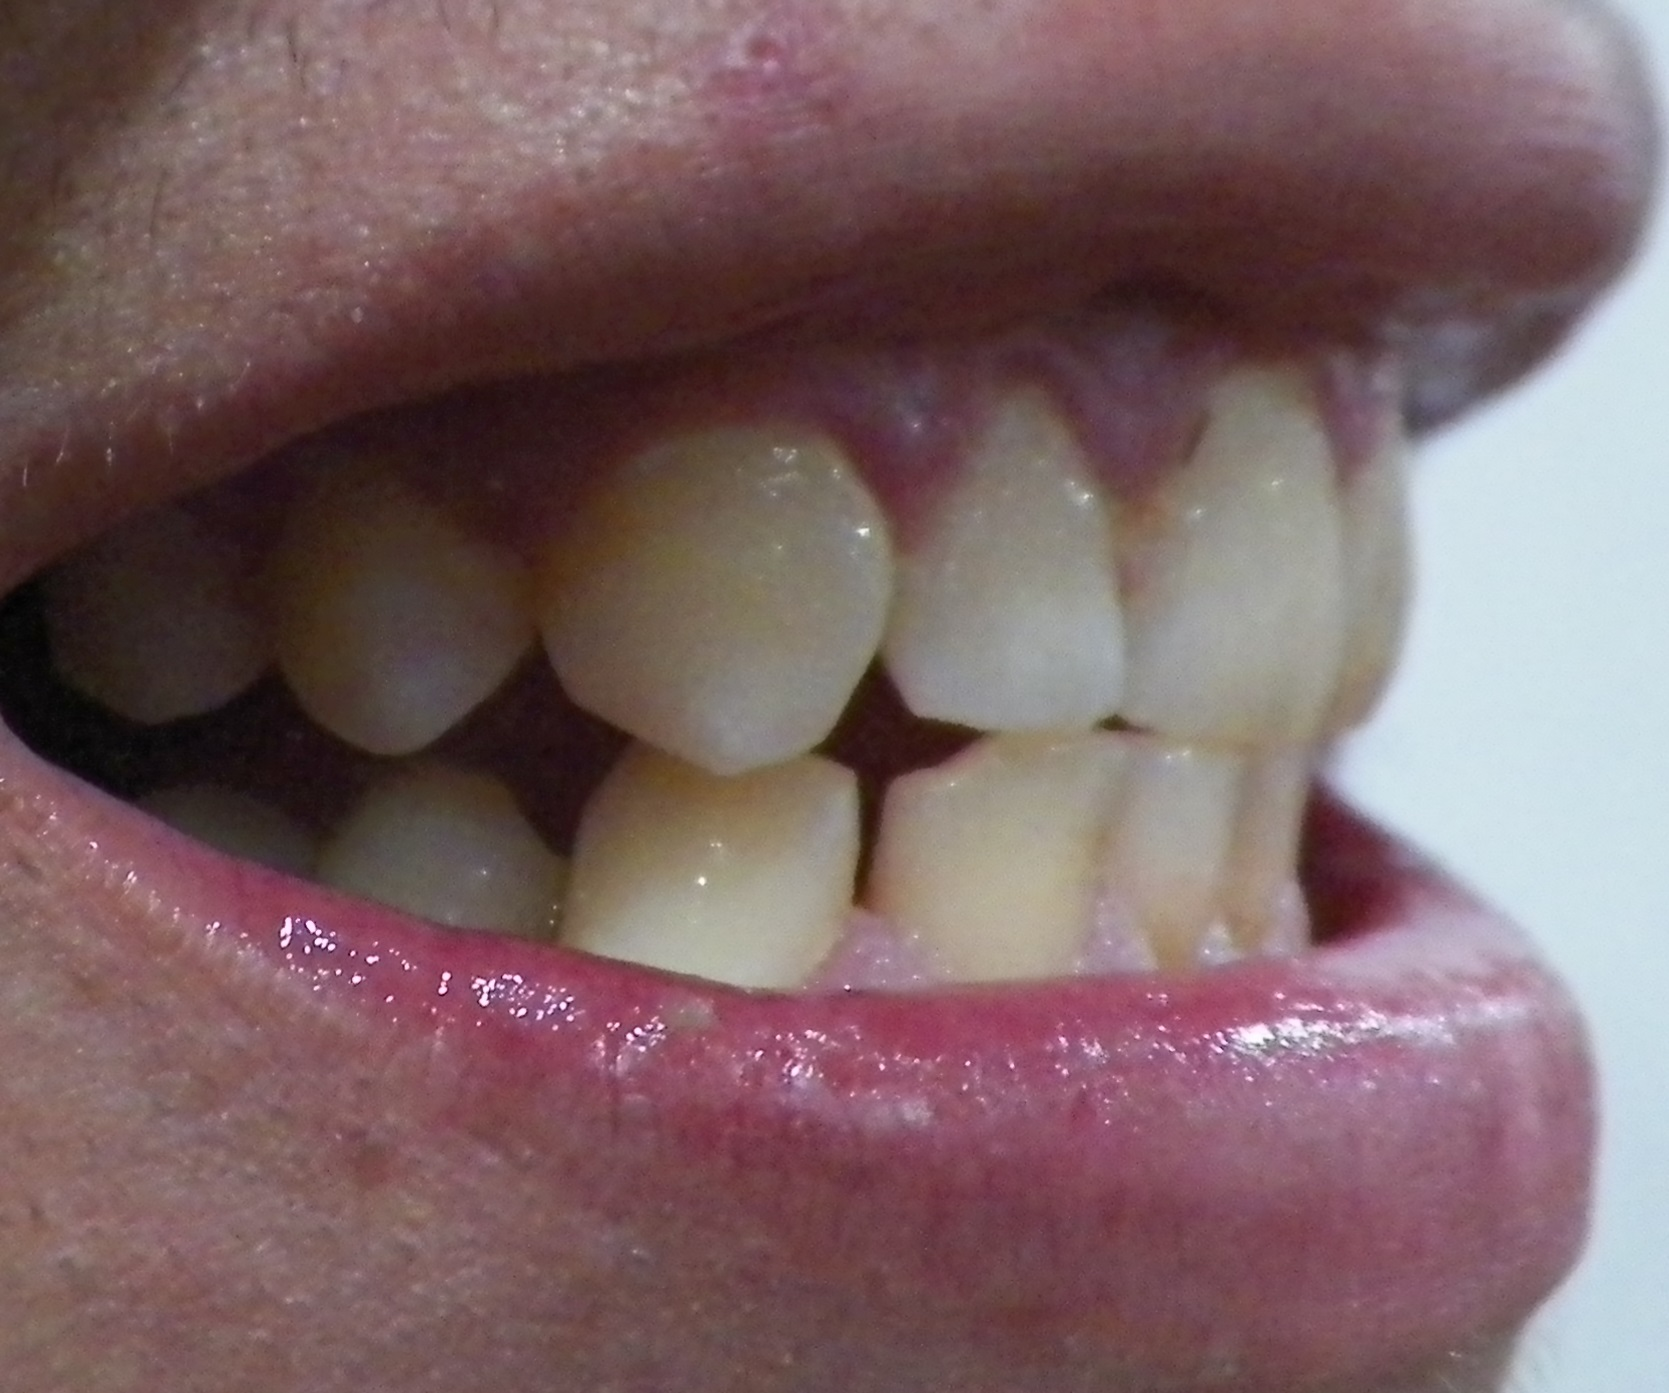boca: (55, 369, 1410, 969)
